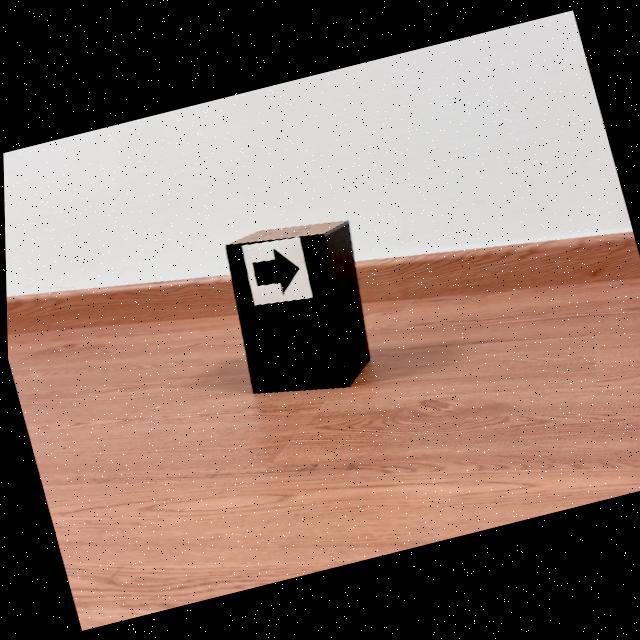RIGHT: (252, 249, 298, 293)
